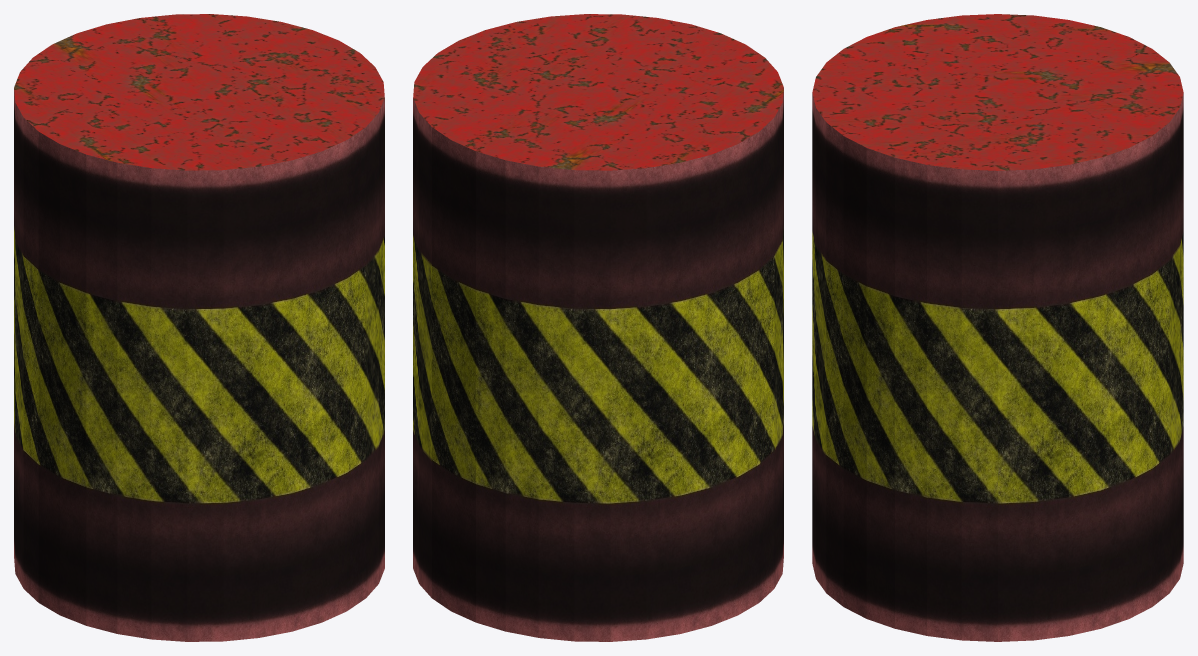
Rendered from ton.obj.
3 renders of one model, left to right at view 1: azimuth 30°, elevation 25°; view 2: azimuth 150°, elevation 25°; view 3: azimuth 270°, elevation 25°, orthographic.
Visible parts, largest first — view 1: Cylinder; view 2: Cylinder; view 3: Cylinder.
Boxes of the visible parts, x1,y1,x2,y2 form: Cylinder: (14,14,384,641); Cylinder: (413,14,783,641); Cylinder: (812,14,1183,641).
Size of the model in its own units: 2 by 2.8 by 2.
